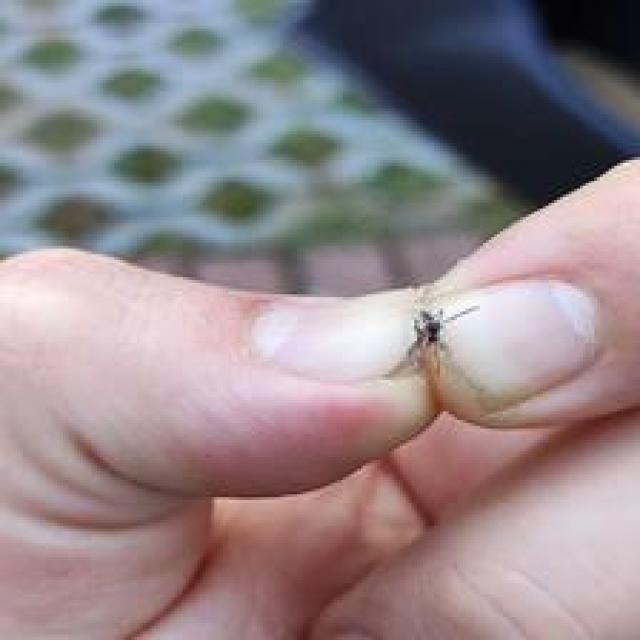Aedes albopictus: (384, 299, 482, 384)
